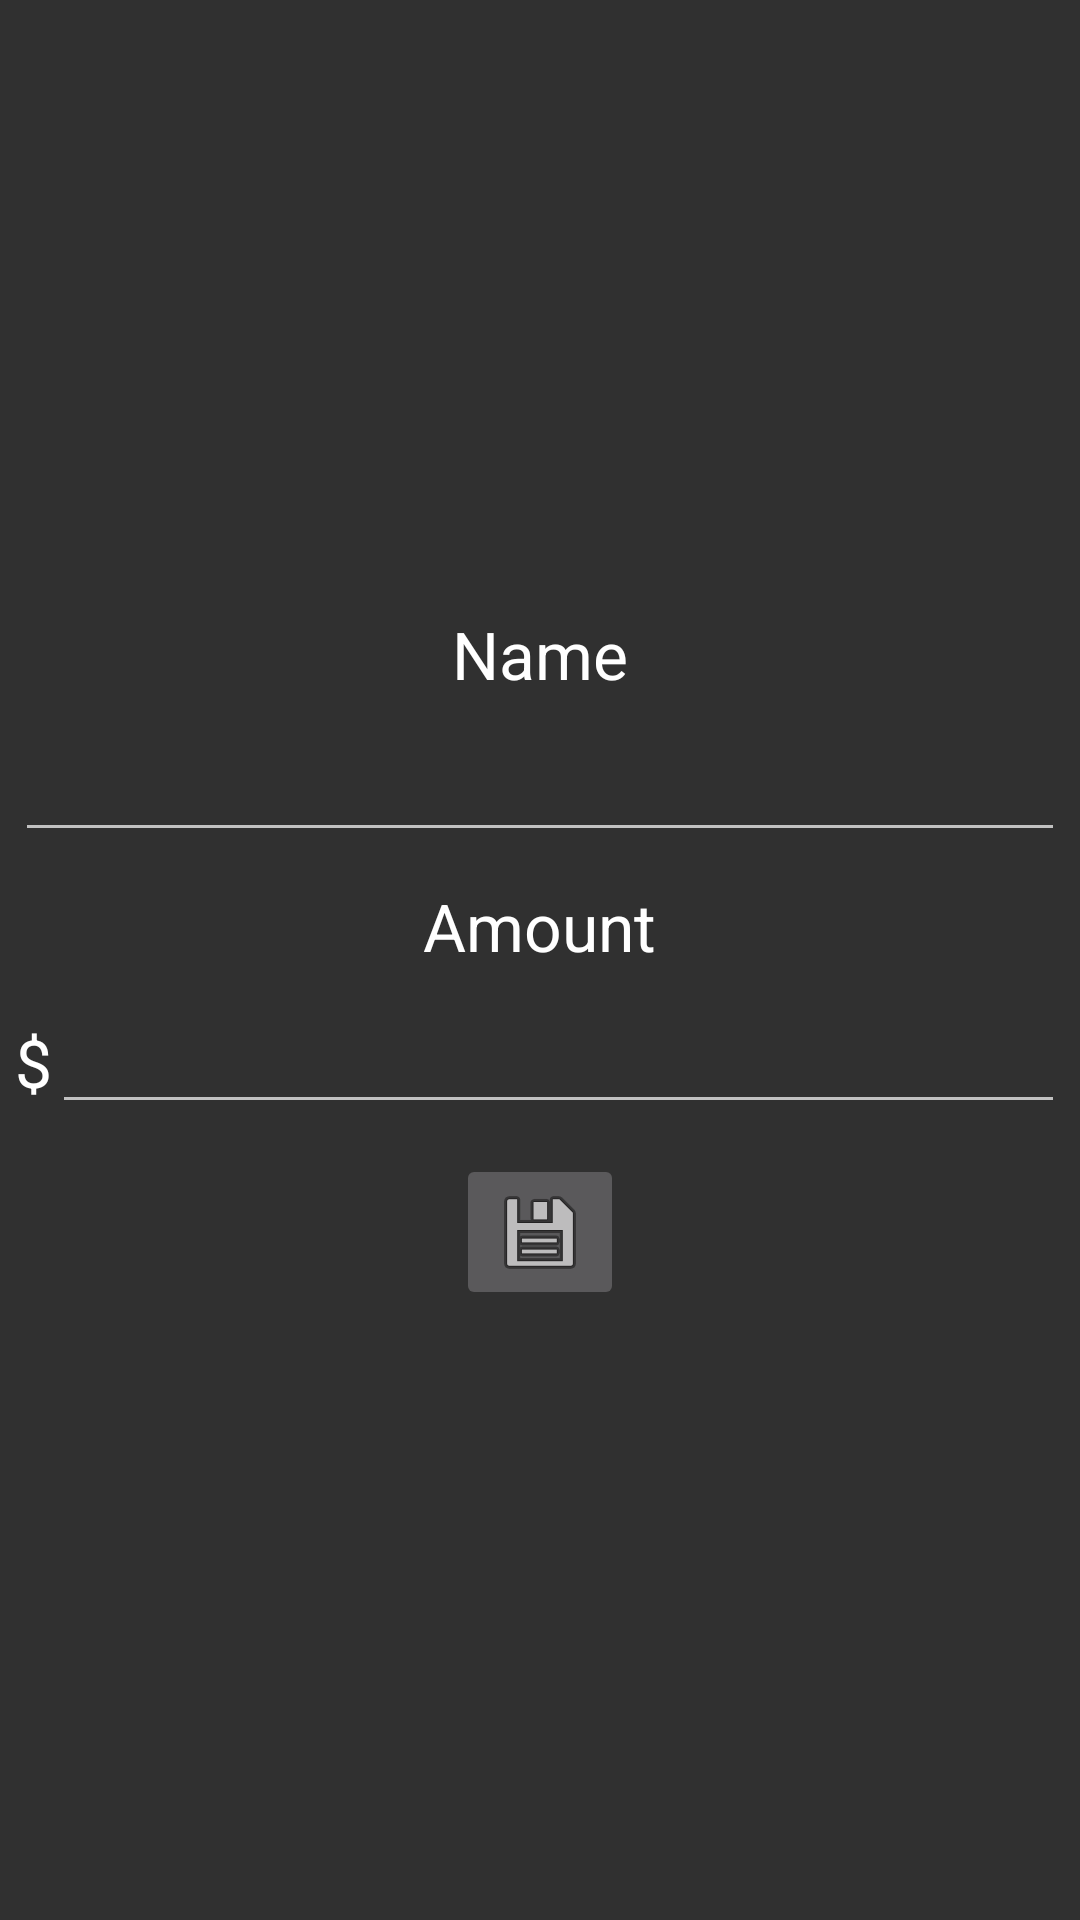

Icons on this 1080×1920 Android screen, each with its box as (x1, y1, x2, y2):
save: (468, 1172, 612, 1292)
